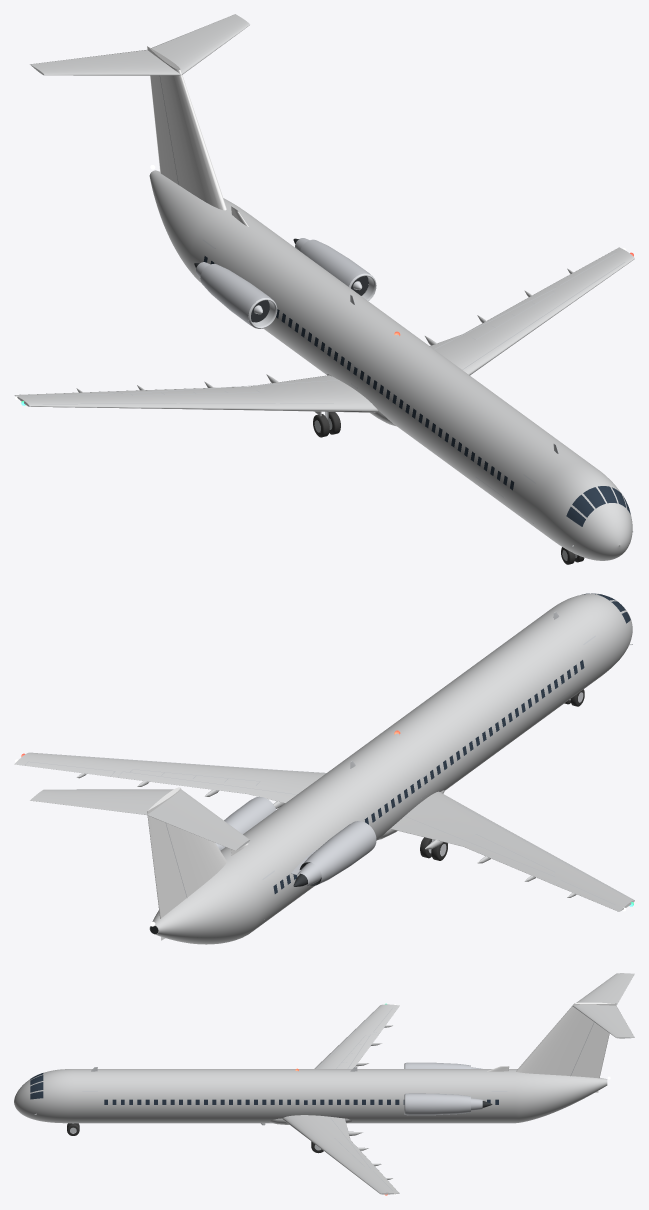
3 renders of one model, top to bottom at view 1: azimuth 30°, elevation 25°; view 2: azimuth 150°, elevation 25°; view 3: azimuth 270°, elevation 25°, orthographic. The views are drawn at different scales.
Parts seen in each view (by area): view 1: airframe, gear; view 2: airframe, gear; view 3: airframe.
Boxes of the visible parts, x1=… form: airframe: x1=14, y1=14, x2=634, y2=560; gear: x1=313, y1=411, x2=584, y2=564; airframe: x1=14, y1=593, x2=634, y2=944; gear: x1=420, y1=689, x2=584, y2=860; airframe: x1=14, y1=973, x2=634, y2=1195.
Size of the model in its own units: 28.72 by 9.18 by 39.57.
